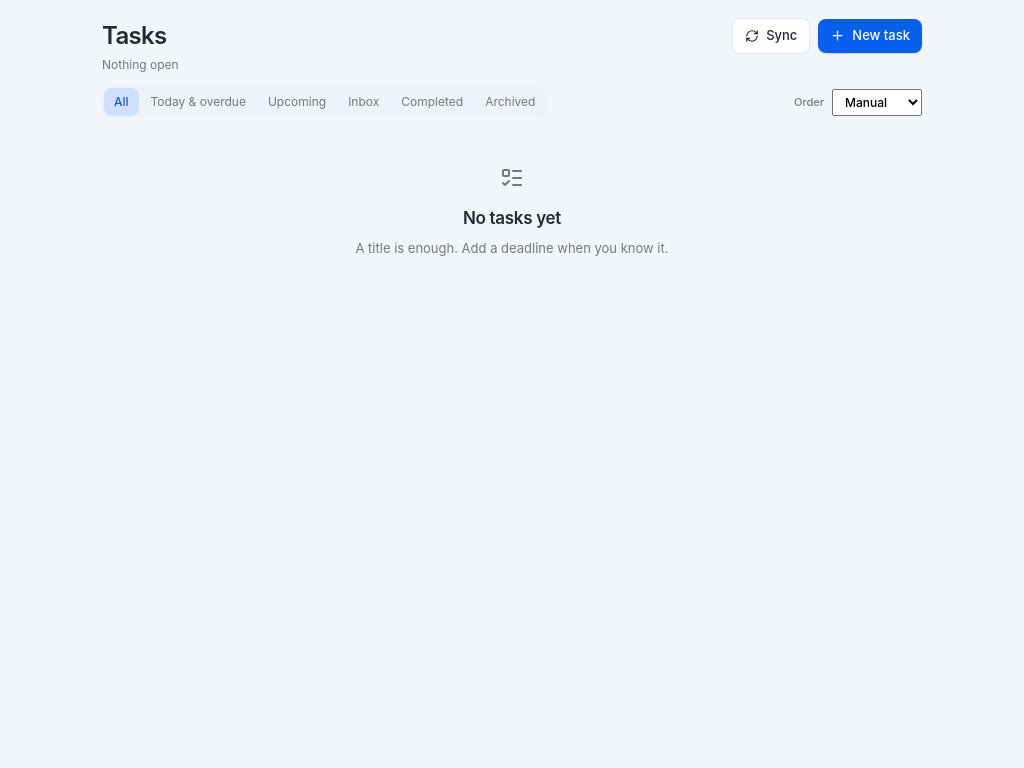
Test: reveals editor fields progressively and keeps the draft when cancelling is not chosen
The width and height of the screenshot is (1024, 768).
Check: the heading "No tasks yet" is shown, box [463,208,561,228]
Click the button "New task" at (870, 36), box [818,19,922,53]
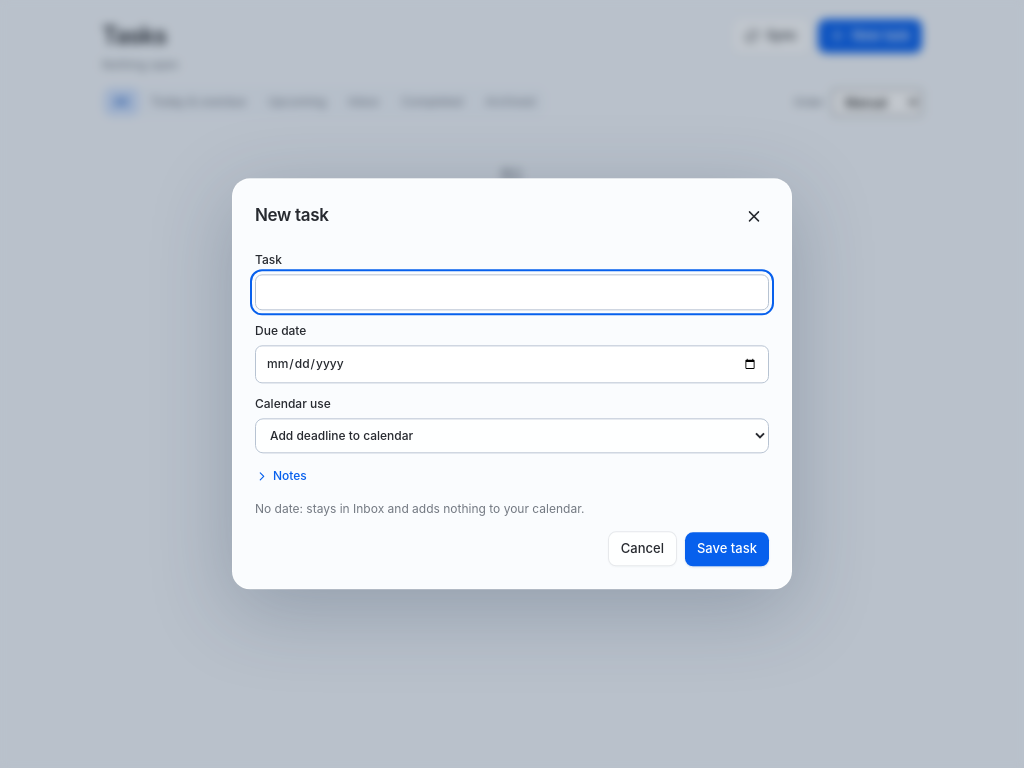
Check: the field labelled "Due time (optional)" is not shown
Check: the field labelled "Deadline calendar" is not shown
Type "2026-12-01" into the date field labelled "Due date" at (512, 364), box [255,345,769,383]
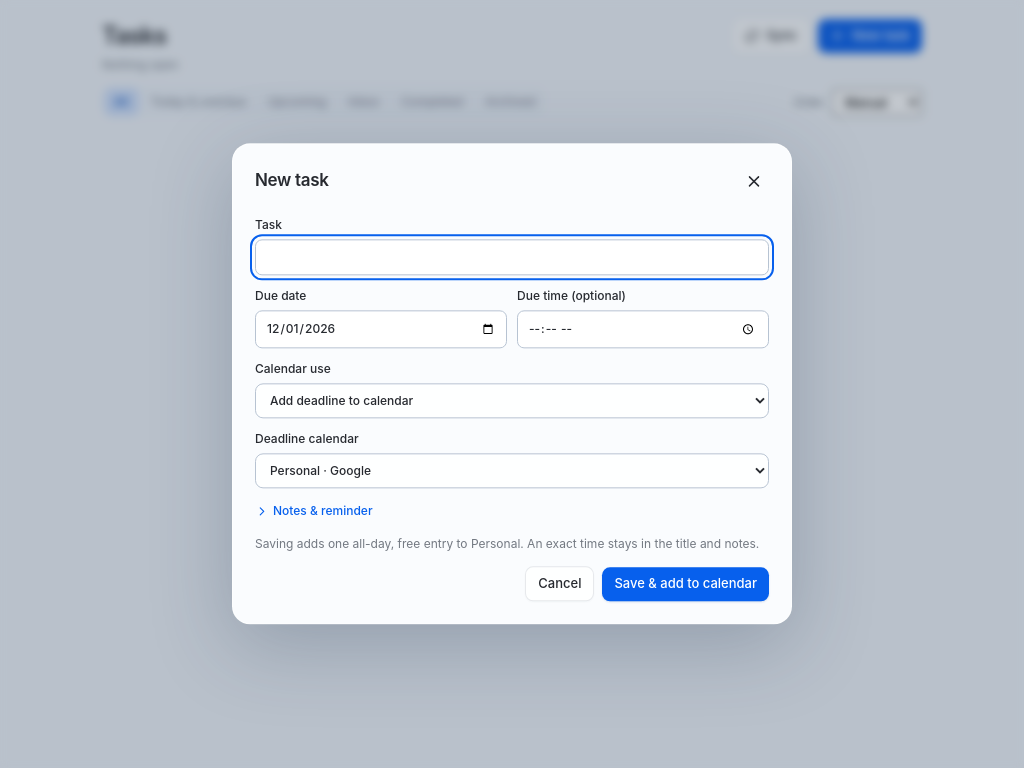
Check: the time field labelled "Due time (optional)" is shown, box [517,310,769,348]
Check: the dropdown labelled "Deadline calendar" is shown, box [255,453,769,488]
Click the button "Notes & reminder" at (314, 511), box [255,500,372,522]
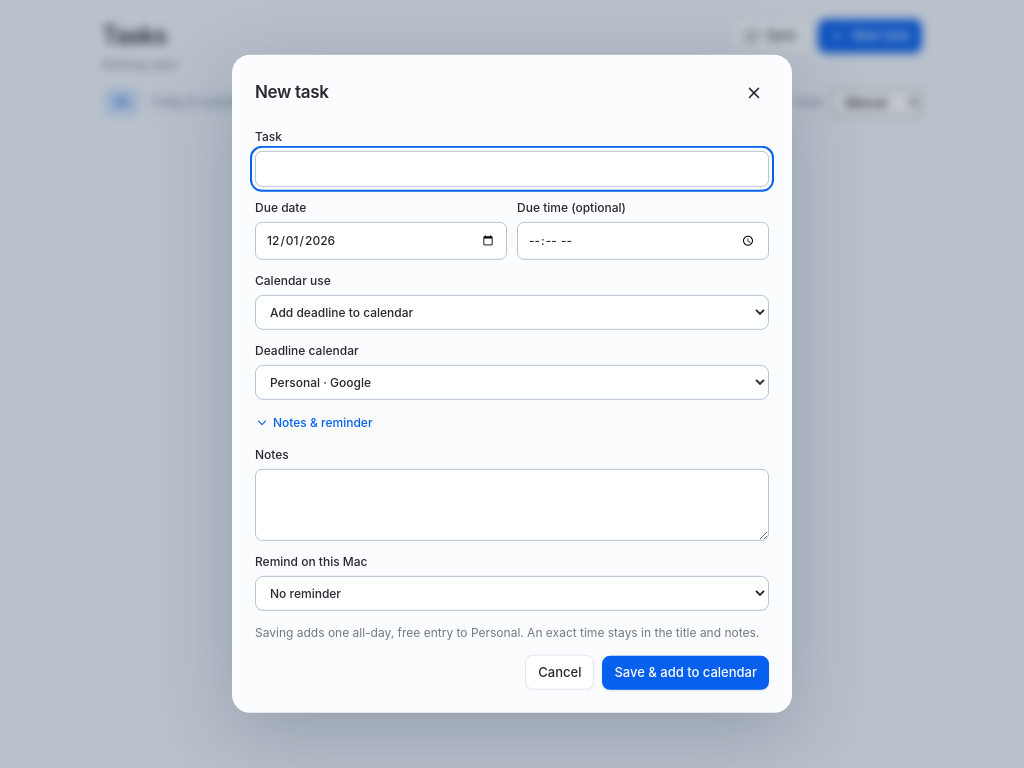
Check: the text box labelled "Notes" is shown, box [255,469,769,541]
Select "1 hour before" in the dropdown labelled "Remind on this Mac" at (512, 593), box [255,576,769,611]
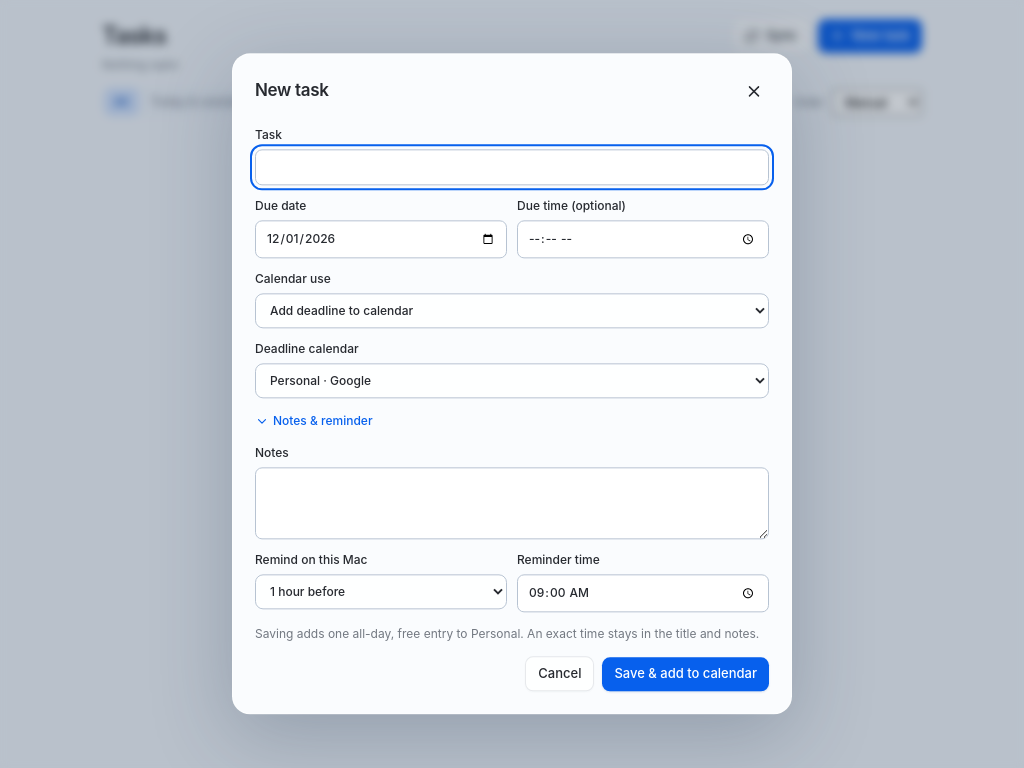
Check: the time field labelled "Reminder time" is shown, box [517,574,769,612]
Click the button "Cancel" at (560, 674), box [525,656,594,692]
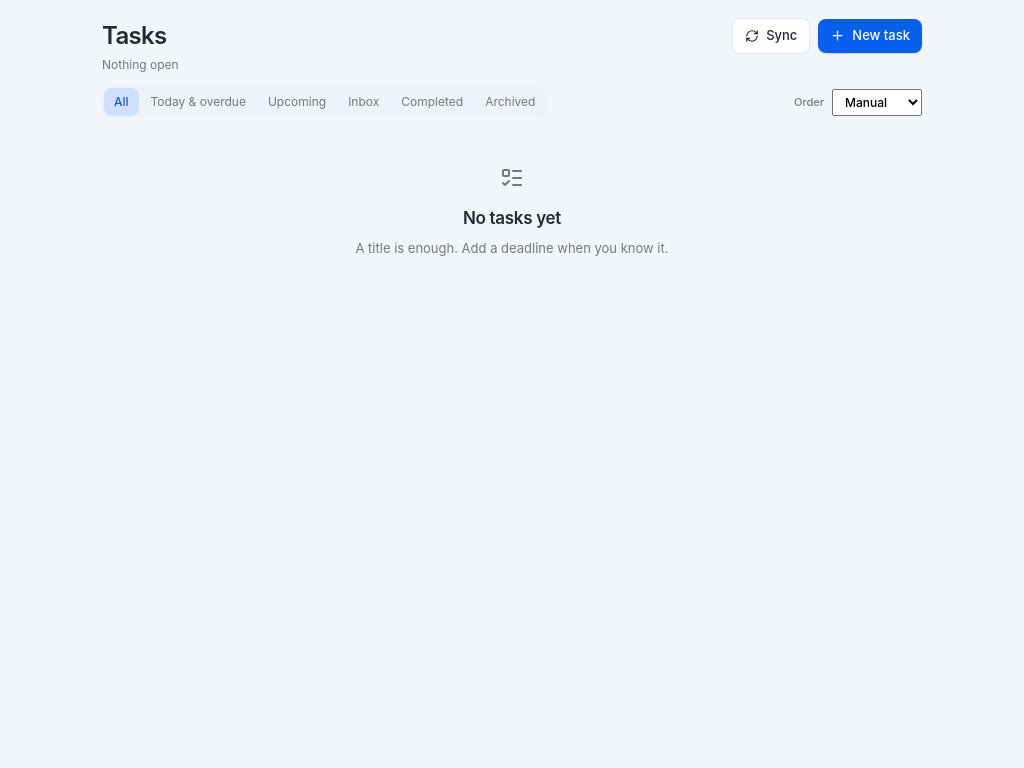
Check: the dialog is gone
